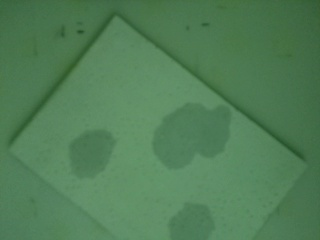Water_detected: (156, 104, 222, 164), (76, 132, 115, 172), (178, 200, 196, 226)
